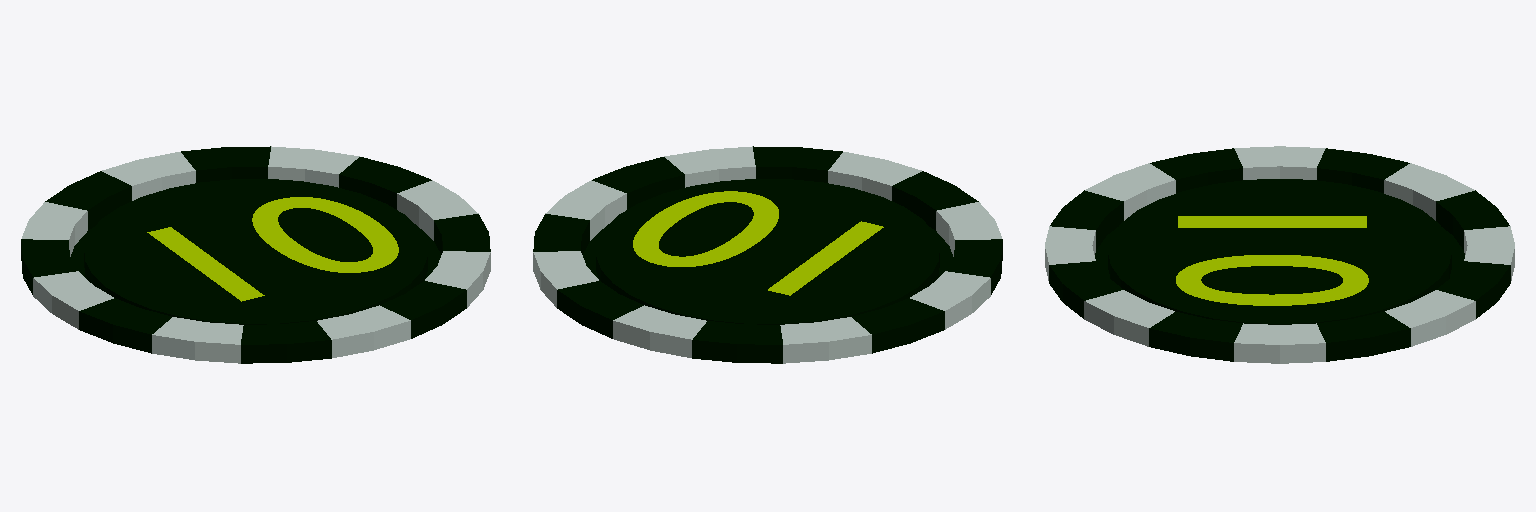
3 renders of one model, left to right at view 1: azimuth 30°, elevation 25°; view 2: azimuth 150°, elevation 25°; view 3: azimuth 270°, elevation 25°, orthographic.
Visible parts, largest first — view 1: Cylinder, tekst; view 2: Cylinder, tekst; view 3: Cylinder, tekst.
Part boxes in pixels (bbox=[...]): Cylinder: bbox=[21, 146, 490, 363]; tekst: bbox=[147, 197, 398, 301]; Cylinder: bbox=[533, 146, 1002, 363]; tekst: bbox=[633, 191, 883, 295]; Cylinder: bbox=[1045, 146, 1514, 363]; tekst: bbox=[1176, 216, 1368, 305].
Size of the model in its own units: 1.33 by 0.0642 by 1.33.